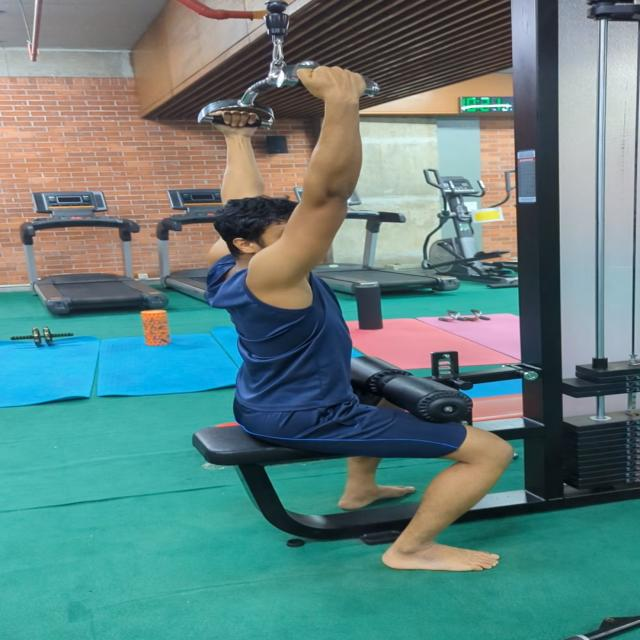Normal_LatPulldown: (190, 64, 548, 584)
